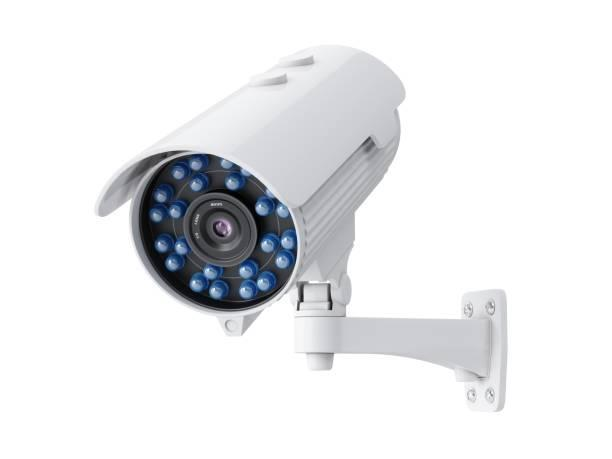camera: (78, 9, 429, 383)
